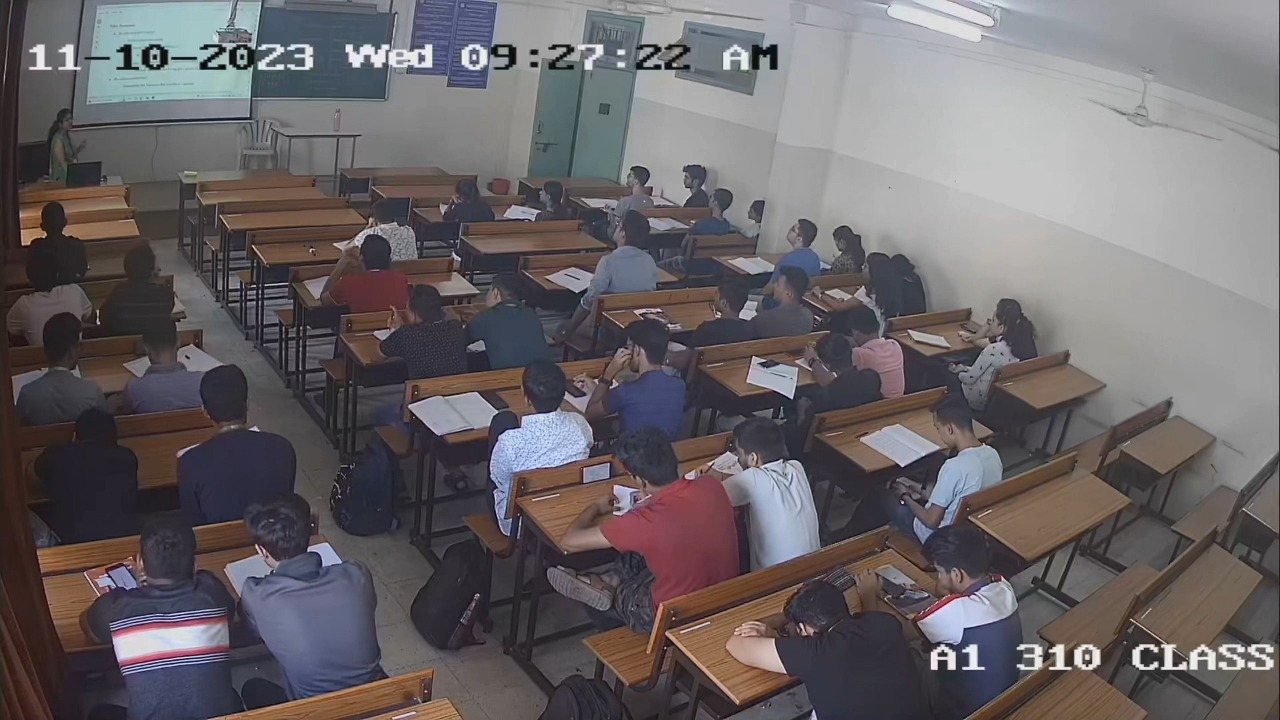cell-phones: (103, 560, 138, 592), (578, 459, 615, 484), (875, 571, 907, 599), (480, 384, 509, 412), (564, 379, 588, 398), (755, 358, 783, 371), (959, 320, 978, 334)
person: (77, 520, 242, 711), (559, 429, 734, 586), (911, 523, 1019, 691), (585, 316, 694, 445), (482, 356, 596, 470), (801, 333, 885, 414), (963, 298, 1038, 363)
